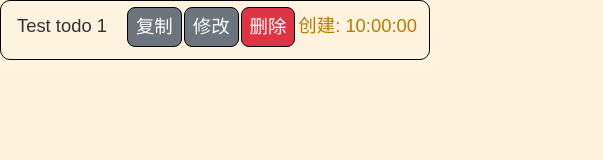
Test: TodoItem Component › enters edit mode on single click
Click the text "Test todo 1" at x=62, y=26, box [17,13,107,39]
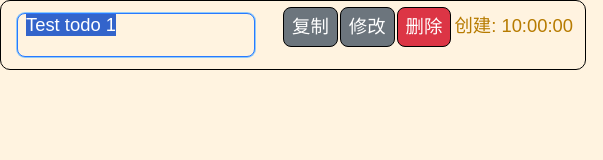
Check: the text box showing "Test todo 1" is shown, box [17,13,255,57]
